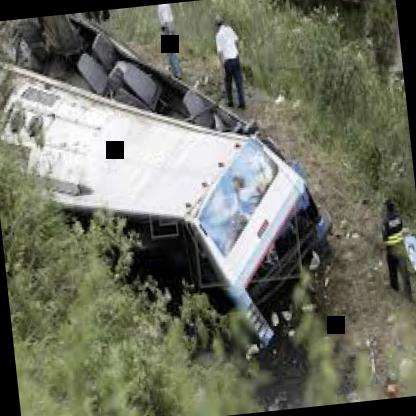accident: (0, 0, 346, 377)
